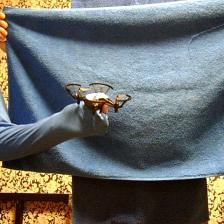drone: (66, 79, 133, 116)
